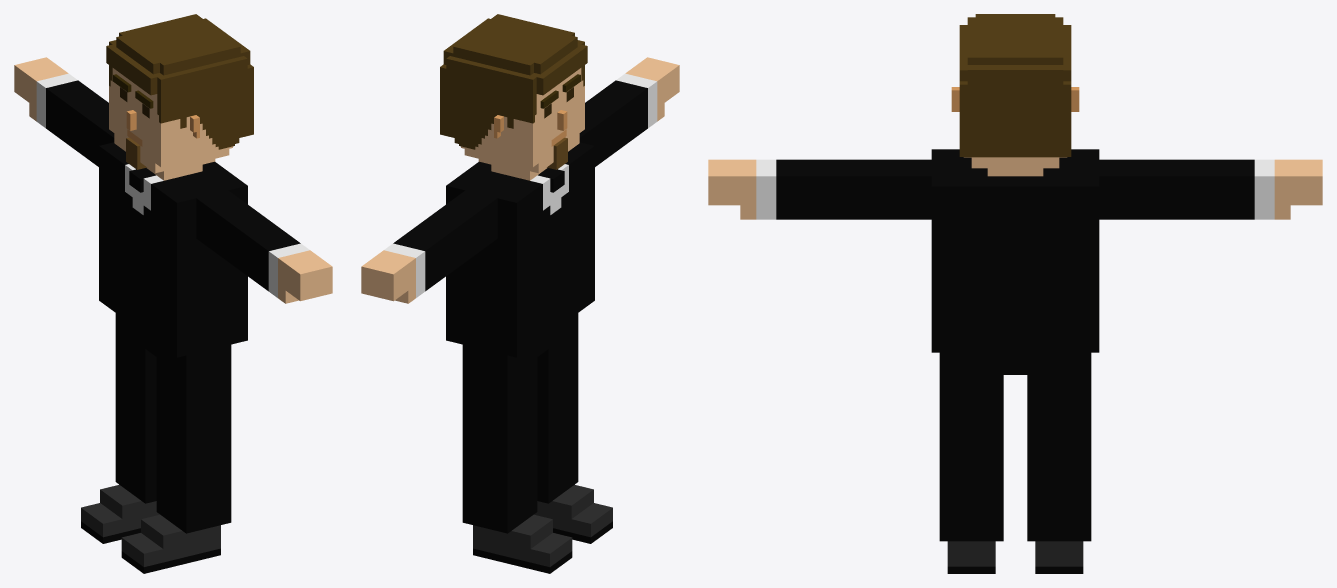
The model's file is male chars-0.obj.
The picture shows the model from 3 angles, left to right: view 1: azimuth 30°, elevation 25°; view 2: azimuth 150°, elevation 25°; view 3: azimuth 270°, elevation 25°; orthographic projection. The views are drawn at different scales.
Bounding box in the file's own units: 3.6 × 14.7 × 15.4.
Materials: 1 (1 with a texture image).
